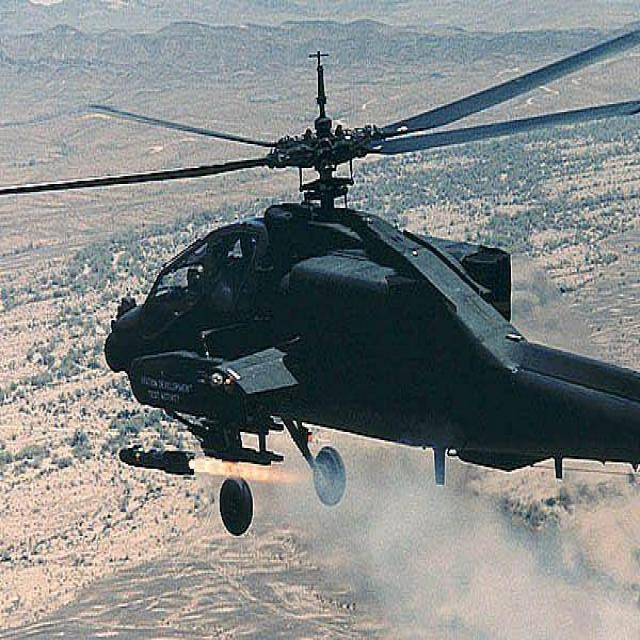MIL_HELO: (9, 24, 640, 549)
